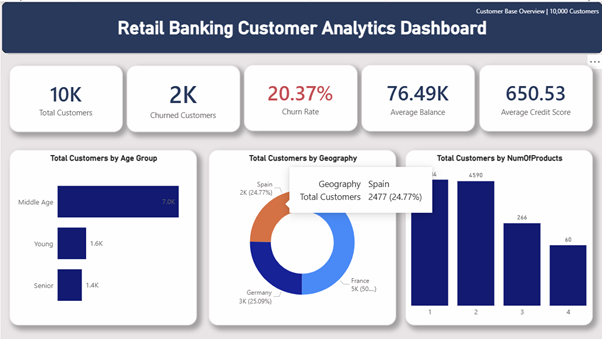

The page's visual inventory and layout, read from the dashboard file:
{"tool":"powerbi","page":{"name":"Customer Overview","canvas":[1280,720],"ordinal":0},"visuals":[{"type":"textbox","box":[0,0,1280.3,111.1],"z":0},{"type":"cardVisual","fields":{"Data":["Churn_Modelling.Total Customers"]},"box":[15.8,135.8,241.5,142.7],"z":1000},{"type":"cardVisual","fields":{"Data":["Churn_Modelling.Churned Customers"]},"box":[265.8,135.8,241.5,142.7],"z":2000},{"type":"cardVisual","fields":{"Data":["Churn_Modelling.Churn Rate"]},"box":[515.8,135,241.5,141.3],"z":3000},{"type":"cardVisual","fields":{"Data":["Churn_Modelling.Average Balance"]},"box":[765.8,135,241.5,142.7],"z":4000},{"type":"cardVisual","fields":{"Data":["Churn_Modelling.Average Credit Score"]},"box":[1016.8,135,241.5,142.7],"z":5000},{"type":"donutChart","fields":{"Category":["Churn_Modelling.Geography"],"Y":["Churn_Modelling.Total Customers"]},"box":[440.5,315.6,399.3,374.6],"z":6000},{"type":"clusteredBarChart","title":"Total Customers by Age Group","fields":{"Category":["Churn_Modelling.AgeGroup"],"Y":["Churn_Modelling.Total Customers"]},"box":[16.5,315.6,399.3,374.6],"z":7000},{"type":"clusteredColumnChart","fields":{"Category":["Churn_Modelling.NumOfProducts"],"Y":["Churn_Modelling.Total Customers"]},"box":[859,315.6,399.3,374.6],"z":8000}]}

Visuals, with their boxes in screenshot pixels (x1, y1, x2, y2), scaled from the page's 1280x720 canvas onto the 602x339 screenshot:
textbox: (0, 0, 601, 52)
cardVisual - Churn_Modelling.Total Customers: (7, 64, 121, 131)
cardVisual - Churn_Modelling.Churned Customers: (125, 64, 239, 131)
cardVisual - Churn_Modelling.Churn Rate: (243, 64, 356, 130)
cardVisual - Churn_Modelling.Average Balance: (360, 64, 474, 131)
cardVisual - Churn_Modelling.Average Credit Score: (478, 64, 592, 131)
donutChart - Churn_Modelling.Geography x Churn_Modelling.Total Customers: (207, 149, 395, 325)
"Total Customers by Age Group" clusteredBarChart: (8, 149, 196, 325)
clusteredColumnChart - Churn_Modelling.NumOfProducts x Churn_Modelling.Total Customers: (404, 149, 592, 325)
